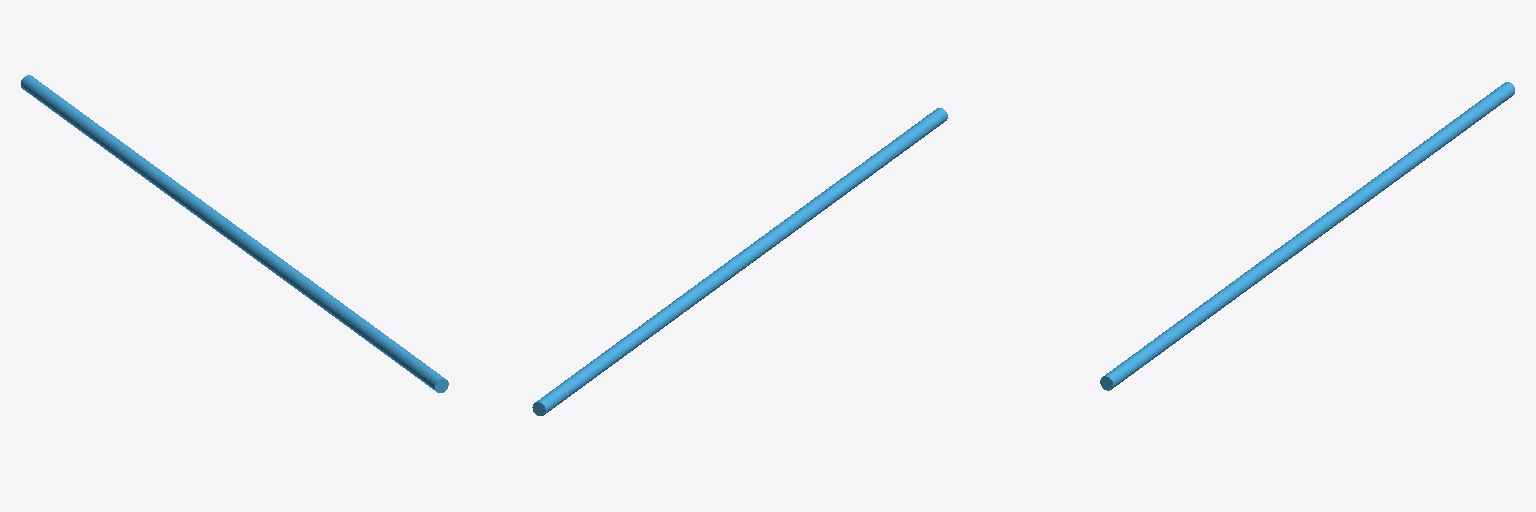
URDF robot description (my_object):
<?xml version="1.0" ?> 
<robot name="my_object" static="true">
  <link name="base_link">
  <inertial>
    <mass value="0.530" />
    <origin xyz="0 -0.4 0.0" />
    <inertia ixx="1.0" ixy="0.0" ixz="0.0" iyy="1.0" iyz="0.0" izz="1.0"/>
  </inertial>
  <visual>
   <origin xyz="0 0 0.0" rpy="0 0 0" />
   <geometry>
     <mesh filename="package://cob_gazebo_objects/Media/models/dust_mop.dae"/>
   </geometry>
  </visual>
  <collision>
   <origin xyz="0.003 -0.525 -0.02" rpy="0 0 0" />
   <geometry>
	<box size="0.095 0.38 0.01" />
   </geometry>
  </collision>     
  </link>

  <link name="stick">
  <inertial>
    <mass value="0" />
    <origin xyz="0 -0.4 0.0" />
    <inertia ixx="1.0" ixy="0.0" ixz="0.0" iyy="1.0" iyz="0.0" izz="1.0"/>
  </inertial>
  <visual>
   <origin xyz="-0.005 0.090 0.005" rpy="1.570796 0 0" />
   <geometry>
     <cylinder length="1.355" radius="0.013" />
   </geometry>
  </visual>
  <collision>
   <origin xyz="-0.005 0.090 0.005" rpy="1.570796 0 0" />
   <geometry>
	<cylinder length="1.355" radius="0.013" />
   </geometry>
  </collision>     
  </link>

<joint name="base_to_stick" type="fixed">
    <parent link="base_link"/>
    <child link="stick"/>
</joint>

  <link name="base_addition">
  <inertial>
    <mass value="0" />
    <origin xyz="0 0 0.0" />
    <inertia ixx="1.0" ixy="0.0" ixz="0.0" iyy="1.0" iyz="0.0" izz="1.0"/>
  </inertial>
  <visual>
   <origin xyz="-0.044 -0.73 -0.02" rpy="0 0 1.570796" />
   <geometry>
     <box size="0 0 0" />
   </geometry>
  </visual>
  <collision>
   <origin xyz="-0.044 -0.73 -0.02" rpy="0 0 1.570796" />
   <geometry>
     <box size="0.05 0.001 0.010" />
   </geometry>
  </collision>    
  </link>

<joint name="base_to_base_addition" type="fixed">
    <parent link="base_link"/>
    <child link="base_addition"/>
</joint>

  <link name="base_addition2">
  <inertial>
    <mass value="0" />
    <origin xyz="0 0 0.0" />
    <inertia ixx="1.0" ixy="0.0" ixz="0.0" iyy="1.0" iyz="0.0" izz="1.0"/>
  </inertial>
  <visual>
   <origin xyz="0.004 -0.734 -0.02" rpy="0 0 0.40" />
   <geometry>
     <box size="0 0 0" />
   </geometry>
  </visual>
  <collision>
   <origin xyz="0.004 -0.734 -0.02" rpy="0 0 0.40" />
   <geometry>
     <box size="0.103 0.0013 0.010" />
   </geometry>
  </collision>    
  </link>

<joint name="base_to_base_addition2" type="fixed">
    <parent link="base_link"/>
    <child link="base_addition2"/>
</joint>

<gazebo reference="base_link">
  <mu1>50.0</mu1>
  <mu2>50.0</mu2>
  <kp>1000000.0</kp>
  <kd>1.0</kd>
</gazebo>
</robot>

--- Facts derived from the render (not from the file) ---
The picture shows the robot from 3 angles, left to right: view 1: azimuth 30°, elevation 25°; view 2: azimuth 150°, elevation 25°; view 3: azimuth 330°, elevation 25°; orthographic projection.
Robot: my_object — 4 links, 3 joints (3 fixed); root link base_link; default pose: every joint at zero.
Visible links, largest first — view 1: stick; view 2: stick; view 3: stick.
Boxes of the visible links, left/top/right/bottom form: stick: left=21, top=75, right=448, bottom=392; stick: left=532, top=108, right=947, bottom=415; stick: left=1100, top=82, right=1514, bottom=390.
Bounding box of the posed robot: 0.052 × 1.5 × 0.038 m (x, y, z).
Meshes: 1 distinct files referenced, 0 mesh visuals loaded (none loaded); not drawn: 1 (file found but could not be loaded).
